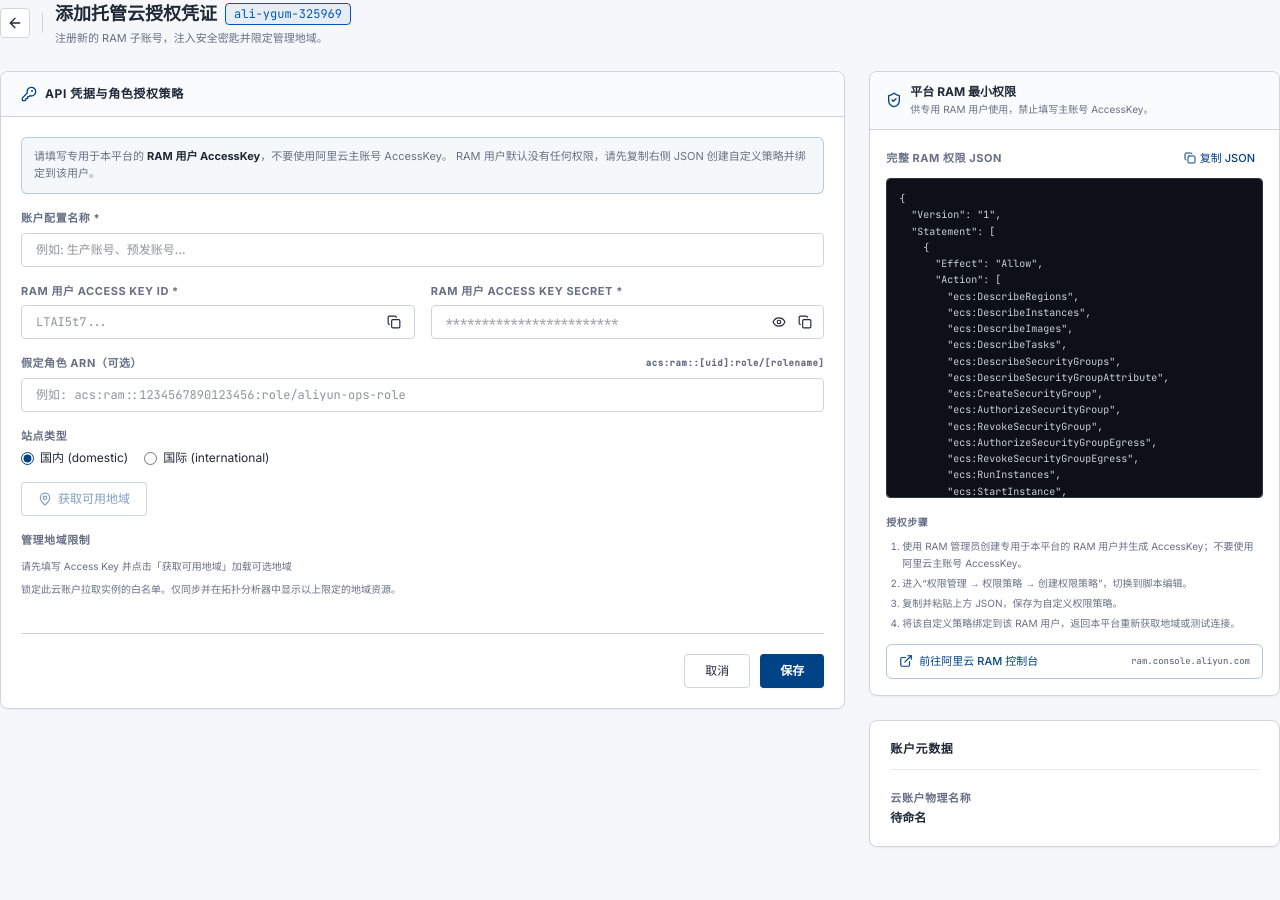
Test: account RAM authorization guide › opens the policy modal from a permission-shaped region error
This screenshot has width=1280, height=900.
Type "LTAI5t7TEST" into the field with placeholder "LTAI5t7..." at (218, 322), box [21,305,415,339]
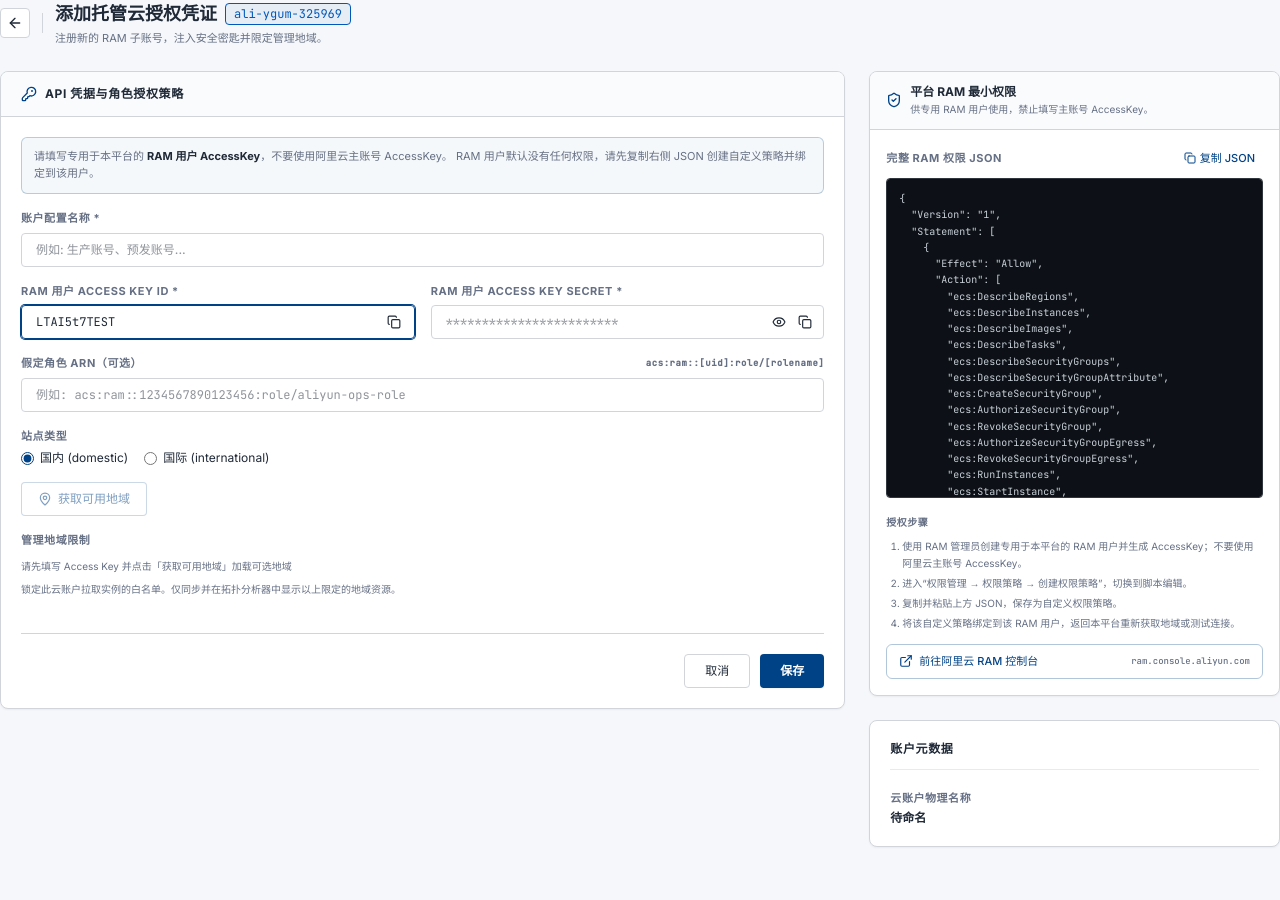
Type "secret123" into the password field with placeholder "************************" at (628, 322), box [431,305,824,339]
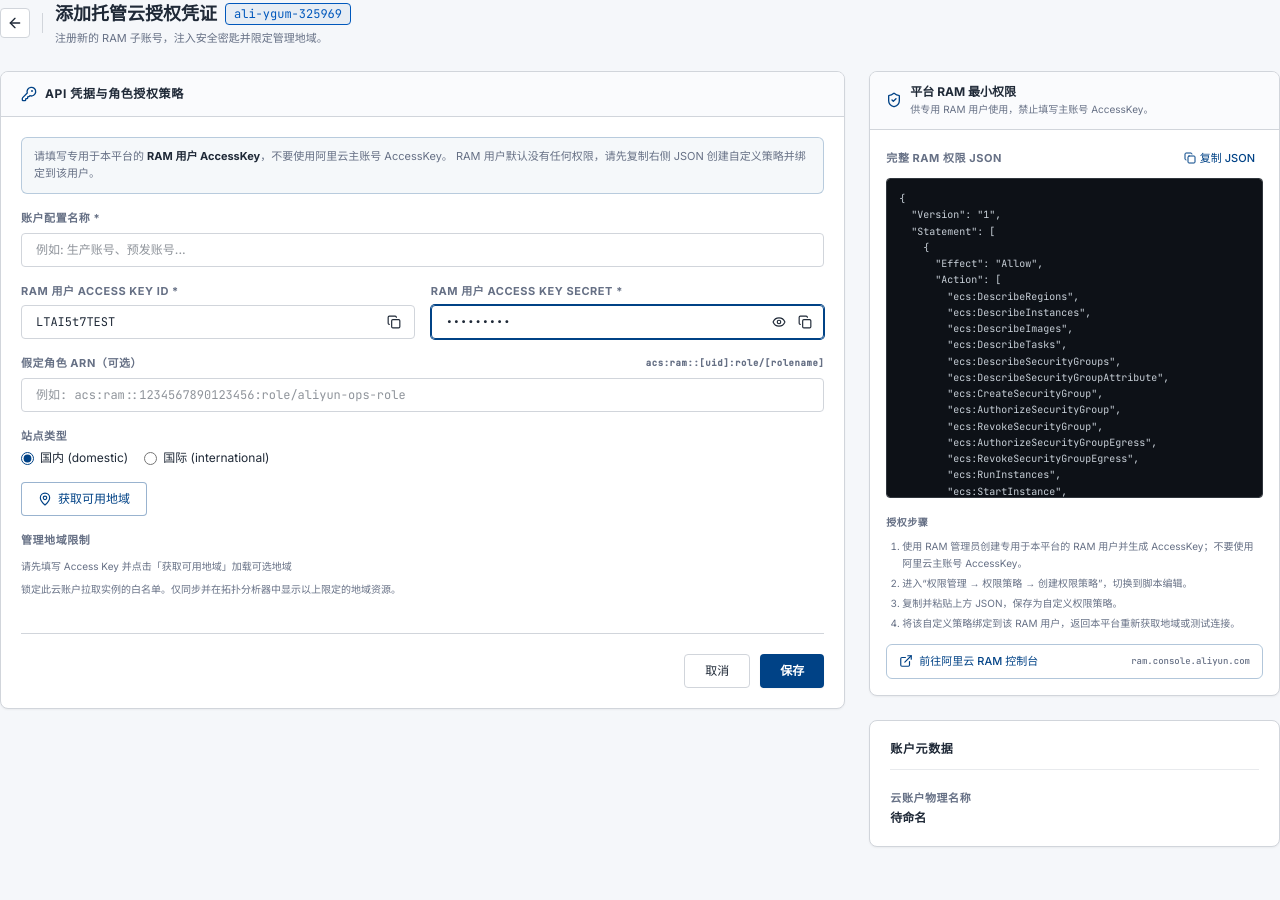
Click the button "获取可用地域" at (84, 499), box [21,482,147,516]
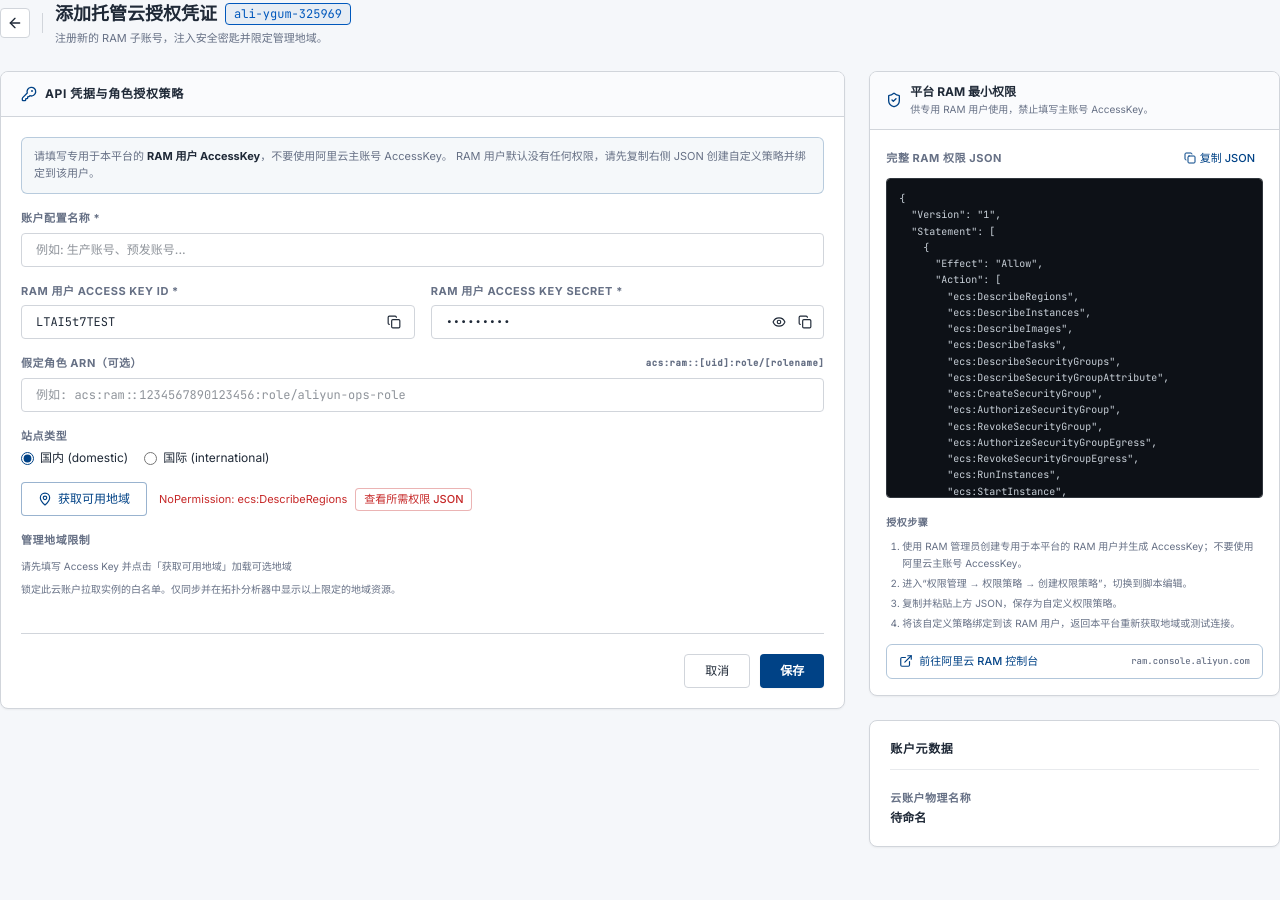
Click the button "查看所需权限 JSON" at (414, 499), box [355,488,472,510]
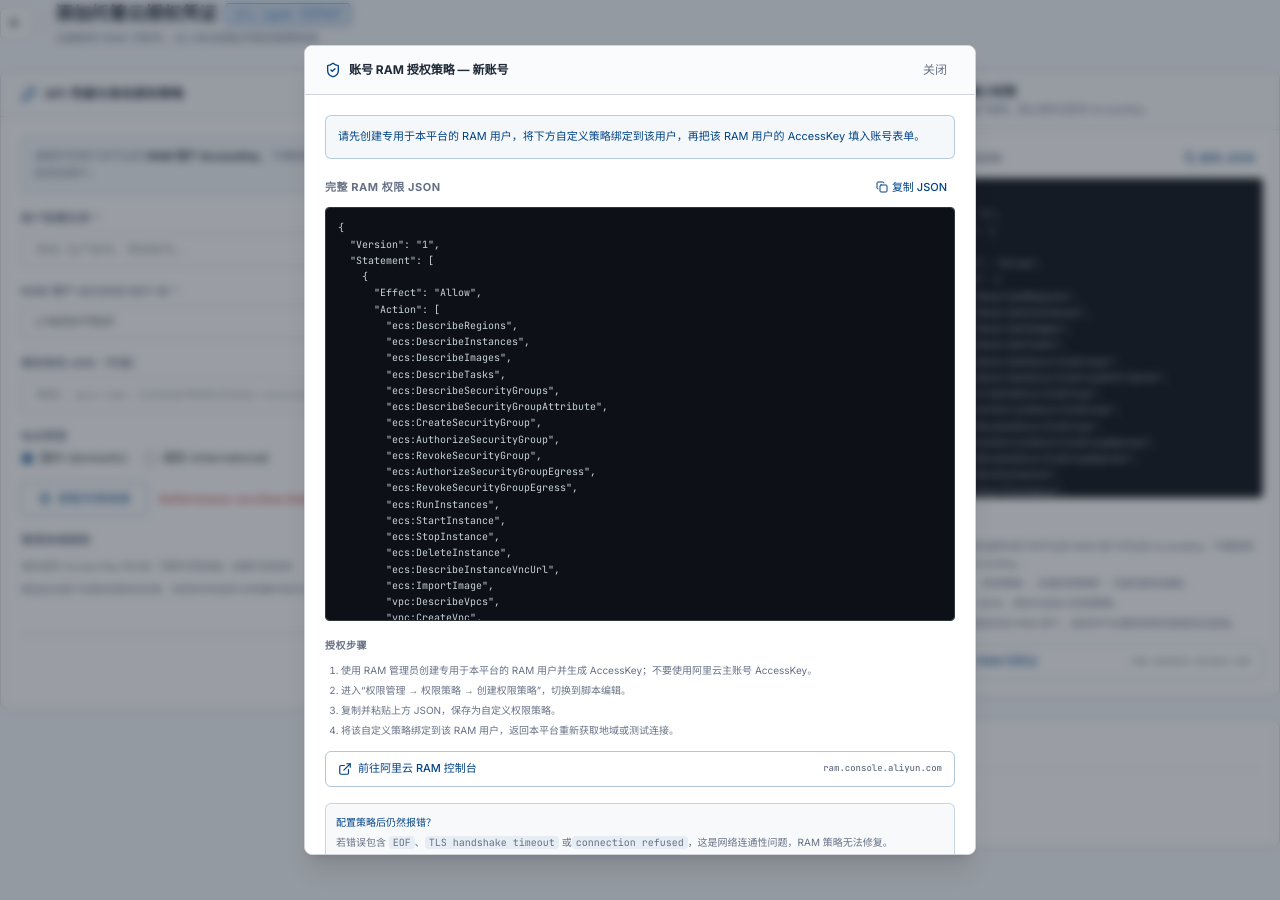
Result: the dialog "账号 RAM 授权策略 — 新账号" is shown at [304,45,976,855]
